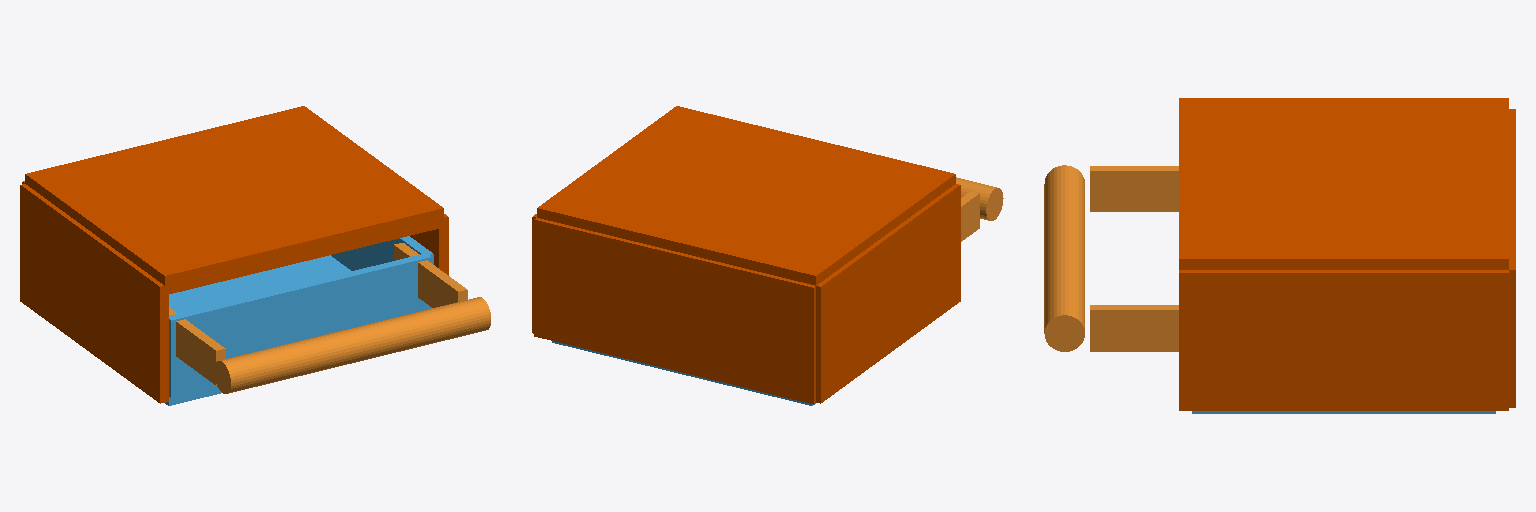
The robot description file, URDF, robot "bowl.urdf":
<?xml version="0.0" ?>
<robot name="bowl.urdf">

  <material name="yellow">
    <color rgba="1 1 0.4 1"/>
  </material>
  <material name="red">
    <color rgba="1 0 0 1"/>
  </material>
  <material name="blue">
    <color rgba=".17 .20 .38 1"/>
  </material>
  <material name="teal">
    <color rgba="0 .5 .5 1"/>
  </material>
  <material name="orange">
    <color rgba=".93 .6 .23 1"/>
  </material>

  <link name="world"/>

  <link name="base">
    <contact>
      <rolling_friction value="10.0"/>
      <lateral_friction value="10.0"/>
      <spinning_friction value="10.0"/>
    </contact>
    <inertial>
      <origin rpy="0 0 0" xyz="0.0 0.0 0.0"/>
       <mass value="0.1"/>
       <inertia ixx="1" ixy="0" ixz="0" iyy="1" iyz="0" izz="1"/>
    </inertial>
    <visual>
      <origin rpy="0 0 0" xyz="0 0 -0.2"/>
      <geometry>
        <box size="1.4 1.2 .1"/>
      </geometry>
    </visual>
    <visual>
      <!-- right -->
      <origin rpy="0 0 0" xyz="0 -.6 0"/>
      <geometry>
        <box size="1.4 .05 0.4"/>
      </geometry>
    </visual>
    <visual>
      <!-- left -->
      <origin rpy="0 0 0" xyz="0 .6 0"/>
      <geometry>
        <box size="1.4 .05 0.4"/>
      </geometry>
    </visual>
    <visual>
      <!-- front -->
      <origin rpy="0 0 0" xyz=".7 0 0"/>
      <geometry>
        <box size=".05 1.2 0.4"/>
      </geometry>
    </visual>
    <visual>
      <!-- back -->
      <origin rpy="0 0 0" xyz="-.7 0 0"/>
      <geometry>
        <box size=".05 1.2 0.4"/>
      </geometry>
    </visual>

    <collision>
      <!--Bottom --> 
      <origin rpy="0 0 0" xyz="0 0 -.2"/>
      <geometry>
        <box size="1.4 1.2 .1"/>
      </geometry>
    </collision>
    <collision>
      <!-- right -->
      <origin rpy="0 0 0" xyz="0 -.6 0"/>
      <geometry>
        <box size="1.4 .05 0.4"/>
      </geometry>
    </collision>
    <collision>
      <!-- left -->
      <origin rpy="0 0 0" xyz="0 .6 0"/>
      <geometry>
        <box size="1.4 .05 0.4"/>
      </geometry>
    </collision>
    <collision>
      <!-- front -->
      <origin rpy="0 0 0" xyz=".7 0 0"/>
      <geometry>
        <box size=".05 1.2 0.4"/>
      </geometry>
    </collision>
    <collision>
      <!-- back -->
      <origin rpy="0 0 0" xyz="-.7 0 0"/>
      <geometry>
        <box size=".05 1.2 0.4"/>
      </geometry>
    </collision>
  </link>

  <link name="handle_r">
    <contact>
      <rolling_friction value="1000.0"/>
      <lateral_friction value="1000.0"/>
      <!-- lateral_friction was key to not making the gripper slide on the handle--> 
      <spinning_friction value="1000.0"/>
      <contact_cfm value="0.0"/>
      <contact_erp value="1.0"/>
    </contact>
    <inertial>
      <origin rpy="0 1.57 0" xyz="0 0 0"/>
      <mass value=".1"/>
      <inertia ixx="1" ixy="0" ixz="0" iyy="1" iyz="0" izz="1"/>
    </inertial>
    <visual>
      <origin rpy="0 1.57 0" xyz="0 0 0"/>
      <geometry>
        <cylinder radius="0.08" length="1.4"/>
      </geometry>
      <material name="orange"/>
    </visual>
    <collision>
      <origin rpy="0 1.57 0" xyz="0 0 0"/>
      <geometry>
        <cylinder radius="0.08" length="1.4"/>
      </geometry>
    </collision>
  </link>

  <link name="handle_plate_far">
    <contact>
      <rolling_friction value="1000.0"/>
      <lateral_friction value="1000.0"/>
      <spinning_friction value="1000.0"/>
      <contact_cfm value="0.0"/>
      <contact_erp value="1.0"/>
    </contact>
    <inertial>
      <origin rpy="0 1.57 0" xyz="0 0 0"/>
      <mass value=".1"/>
      <inertia ixx="1" ixy="0" ixz="0" iyy="1" iyz="0" izz="1"/>
    </inertial>
    <visual>
      <origin rpy="0 0 0" xyz="0 0 0"/>
      <geometry>
        <box size=".05 .6 .18"/>
      </geometry>
      <material name="orange"/>
    </visual>
    <collision>
      <origin rpy="0 0 0" xyz="0 0 0"/>
      <geometry>
        <box size=".05 .6 .18"/>
      </geometry>
    </collision>
  </link>

  <link name="handle_plate_near">
    <contact>
      <rolling_friction value="1000.0"/>
      <lateral_friction value="1000.0"/>
      <spinning_friction value="1000.0"/>
      <contact_cfm value="0.0"/>
      <contact_erp value="1.0"/>
    </contact>
    <inertial>
      <origin rpy="0 1.57 0" xyz="0 0 0"/>
      <mass value=".1"/>
      <inertia ixx="1" ixy="0" ixz="0" iyy="1" iyz="0" izz="1"/>
    </inertial>
    <visual>
      <origin rpy="0 0 0" xyz="0 0 0"/>
      <geometry>
        <box size=".05 .6 .18"/>
      </geometry>
      <material name="orange"/>
    </visual>
    <collision>
      <origin rpy="0 0 0" xyz="0 0 0"/>
      <geometry>
        <box size=".05 .6 .18"/>
      </geometry>
    </collision>
  </link>

  <link name="frame">
    <contact>
      <lateral_friction value="0.5"/>
      <rolling_friction value="0.0"/>
      <contact_cfm value="0.0"/>
      <contact_erp value="1.0"/>
    </contact>
    <inertial>
      <origin rpy="0 0 0" xyz="0.0 0.0 0.0"/>
       <mass value=".1"/>
       <inertia ixx="1" ixy="0" ixz="0" iyy="1" iyz="0" izz="1"/>
    </inertial>
    <visual>
      <!--Top-->
      <origin rpy="0 0 0" xyz="0 0 .3"/>
      <geometry>
        <box size="1.5 1.3 .1"/>
      </geometry>
    </visual>
    <visual>
      <!--Right-->
      <origin rpy="0 0 0" xyz="0 .65 0"/>
      <geometry>
        <box size="1.5 .05 .6"/>
      </geometry>
    </visual>
    <visual>
      <!--Front-->
      <origin rpy="0 0 0" xyz=".75 0 0"/>
      <geometry>
        <box size=".05 1.3 .6"/>
      </geometry>
    </visual>
    <visual>
      <!--Back-->
      <origin rpy="0 0 0" xyz="-.75 0 0"/>
      <geometry>
        <box size=".05 1.3 .6"/>
      </geometry>
    </visual>

    <collision>
      <!--Top-->
      <origin rpy="0 0 0" xyz="0 0 .3"/>
      <geometry>
        <box size="1.5 1.3 .1"/>
      </geometry>
    </collision>
    <collision>
      <!--Right-->
      <origin rpy="0 0 0" xyz="0 .65 0"/>
      <geometry>
        <box size="1.5 .05 .6"/>
      </geometry>
    </collision>
    <collision>
      <!--Front-->
      <origin rpy="0 0 0" xyz=".75 0 0"/>
      <geometry>
        <box size=".05 1.3 .6"/>
      </geometry>
    </collision>
    <collision>
      <!--Back-->
      <origin rpy="0 0 0" xyz="-.75 0 0"/>
      <geometry>
        <box size=".05 1.3 .6"/>
      </geometry>
    </collision>
  </link>

  <joint name="frame_joint" type="fixed">
    <parent link="world"/>
    <child link="frame"/>
  </joint>

  <joint name="base_frame_joint" type="prismatic">
    <origin rpy="0 0 0" xyz="0 0 -.1"/>
    <parent link="frame"/>
    <child link="base"/>
    <axis rpy="0 0 0" xyz="0 1 0"/>
    <limit effort="100" lower="-1.25" upper="0" velocity="100"/>
    <dynamics damping="0.0" friction=".01"/>
  </joint>

  <joint name="handle_plate_far_joint" type="fixed">
    <origin rpy="0 0 0" xyz="-0.65 -0.7 0.1"/>
    <parent link="base"/>
    <child link="handle_plate_far"/>
  </joint>

  <joint name="handle_plate_near_joint" type="fixed">
    <origin rpy="0 0 0" xyz="0.65 -0.7 0.1"/>
    <parent link="base"/>
    <child link="handle_plate_near"/>
  </joint>

  <joint name="handle_r_joint" type="fixed">
    <origin rpy="0 0 0" xyz="0 -1.1 0.1"/>
    <parent link="base"/>
    <child link="handle_r"/>
  </joint>

</robot>

--- Render facts (derived) ---
The picture shows the robot from 3 angles, left to right: view 1: azimuth 30°, elevation 25°; view 2: azimuth 150°, elevation 25°; view 3: azimuth 270°, elevation 25°; orthographic projection.
Model bowl.urdf with 6 links and 5 joints (1 prismatic, 4 fixed), rooted at world, posed every joint at zero.
Links seen in each view (by area): view 1: frame, base, handle_r, handle_plate_far, handle_plate_near; view 2: frame, handle_r, handle_plate_far; view 3: frame, handle_r, handle_plate_near, handle_plate_far, base.
Boxes of the visible links, x1,y1,x2,y2 form: frame: (20,106,448,403); base: (165,236,433,405); handle_r: (214,297,490,393); handle_plate_far: (169,307,225,385); handle_plate_near: (394,243,467,307); frame: (532,106,960,404); handle_r: (956,177,1003,220); handle_plate_far: (961,191,979,241); frame: (1179,98,1515,410); handle_r: (1044,165,1084,351); handle_plate_near: (1090,305,1178,351); handle_plate_far: (1090,166,1178,211); base: (1192,411,1495,413).
Size in the robot's own frame: 1.55 by 1.85 by 0.7 metres.
Geometry: primitives only (box / cylinder / sphere), no mesh files.